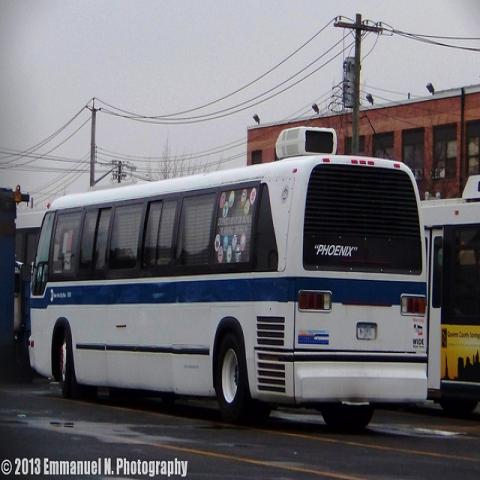bus: (29, 156, 430, 432)
